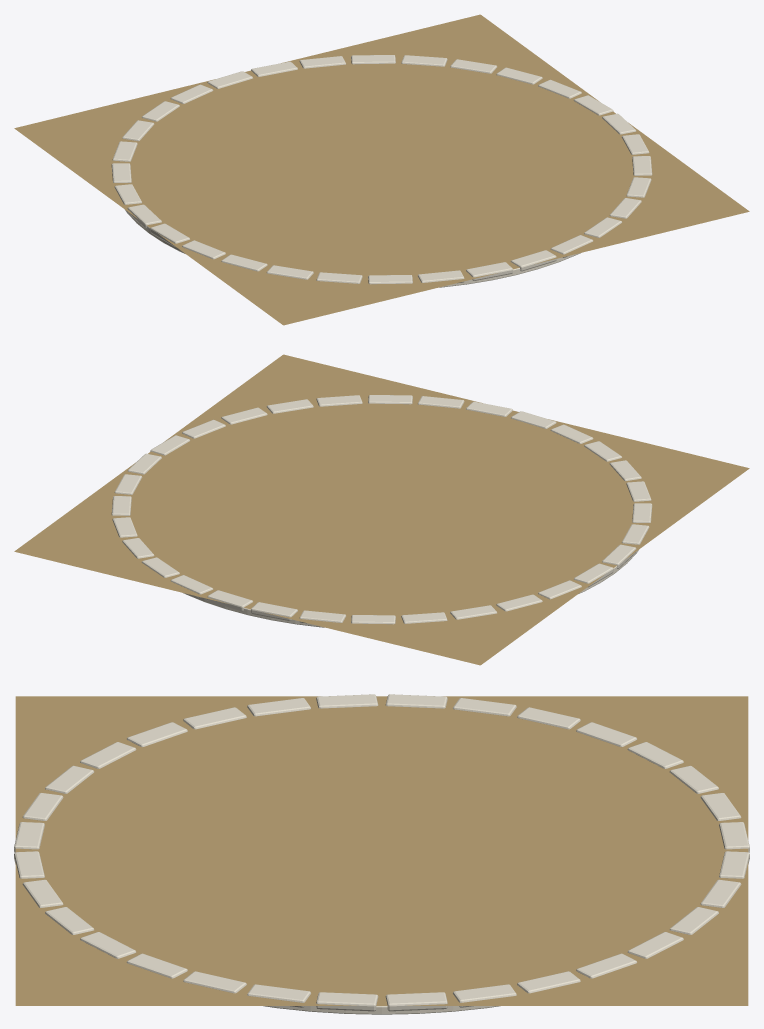
File: Test_CheonRef_BattleFloor.fbx
The picture shows the model from 3 angles, top to bottom: view 1: azimuth 30°, elevation 25°; view 2: azimuth 150°, elevation 25°; view 3: azimuth 270°, elevation 25°; orthographic projection. The views are drawn at different scales.
Parts seen in each view (by area): view 1: SubtleBattleFloorInlay, QuietBattleFloorCenter, BattleFloorRimSegment.023, BattleFloorRimSegment.024; view 2: SubtleBattleFloorInlay, QuietBattleFloorCenter, BattleFloorRimSegment.008, BattleFloorRimSegment.007; view 3: SubtleBattleFloorInlay, BattleFloorRimSegment, BattleFloorRimSegment.031, QuietBattleFloorCenter, BattleFloorRimSegment.001, BattleFloorRimSegment.030, BattleFloorRimSegment.015, BattleFloorRimSegment.016, BattleFloorRimSegment.014, BattleFloorRimSegment.017, BattleFloorRimSegment.002, BattleFloorRimSegment.013 (+22 smaller).
Boxes of the visible parts, x1,y1,x2,y2 form: SubtleBattleFloorInlay: (14,14,749,325); QuietBattleFloorCenter: (125,210,580,287); BattleFloorRimSegment.023: (466,262,512,280); BattleFloorRimSegment.024: (510,250,556,271); SubtleBattleFloorInlay: (14,354,749,665); QuietBattleFloorCenter: (183,550,638,627); BattleFloorRimSegment.008: (251,602,297,620); BattleFloorRimSegment.007: (207,590,253,611); SubtleBattleFloorInlay: (15,696,748,1005); BattleFloorRimSegment: (385,992,447,1011); BattleFloorRimSegment.031: (316,992,378,1011); QuietBattleFloorCenter: (263,1006,500,1014); BattleFloorRimSegment.001: (453,984,516,1007); BattleFloorRimSegment.030: (247,984,310,1007); BattleFloorRimSegment.015: (385,694,447,708); BattleFloorRimSegment.016: (316,694,378,708); BattleFloorRimSegment.014: (453,698,516,716); BattleFloorRimSegment.017: (247,698,310,716); BattleFloorRimSegment.002: (517,971,580,993); BattleFloorRimSegment.013: (517,707,580,729).
Size of the model in its own units: 1205 by 20.5 by 1205.
